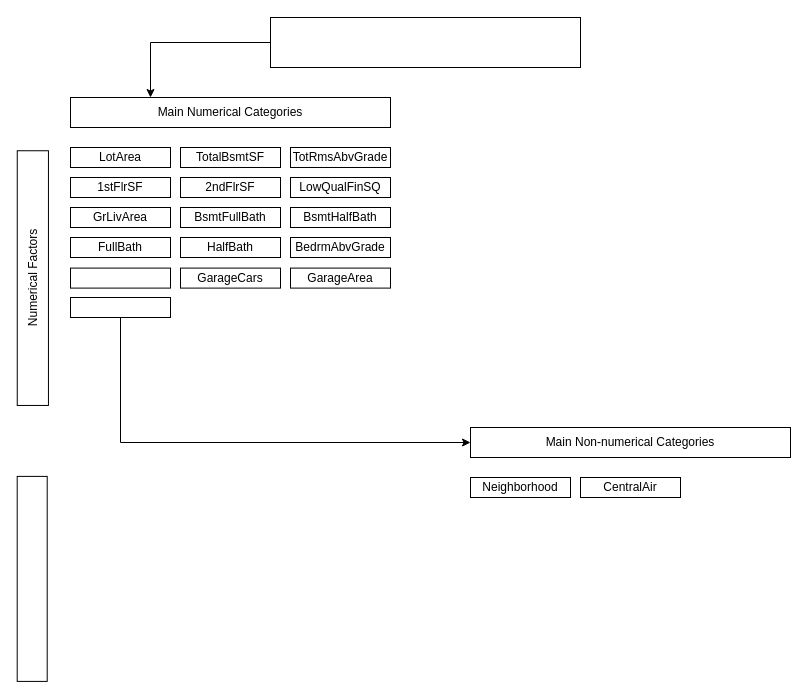
Some shapes in this 809 by 699 pixel diagram are drawn without their labels. The shapes that lost their labels are listed below. From the top down, each one's box as (x1, y1, x2, y2) in pixels, then its label:
(270, 16, 580, 68): Updated Flow for House Price Prediction
(70, 267, 170, 288): KitchenAbvGrade
(70, 296, 170, 318): AgeWhenSold
(16, 475, 47, 681): Non-numerical Factors
